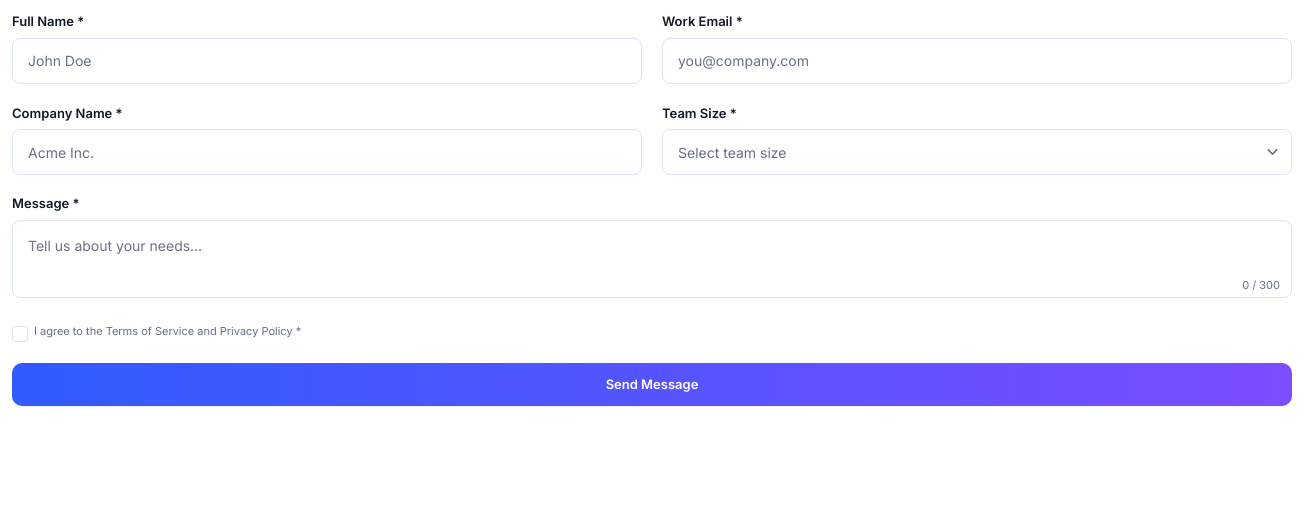
Test case: ContactForm › does not submit an invalid form and shows associated errors
Click the button "Send Message" at (652, 384), box [12,363,1292,406]
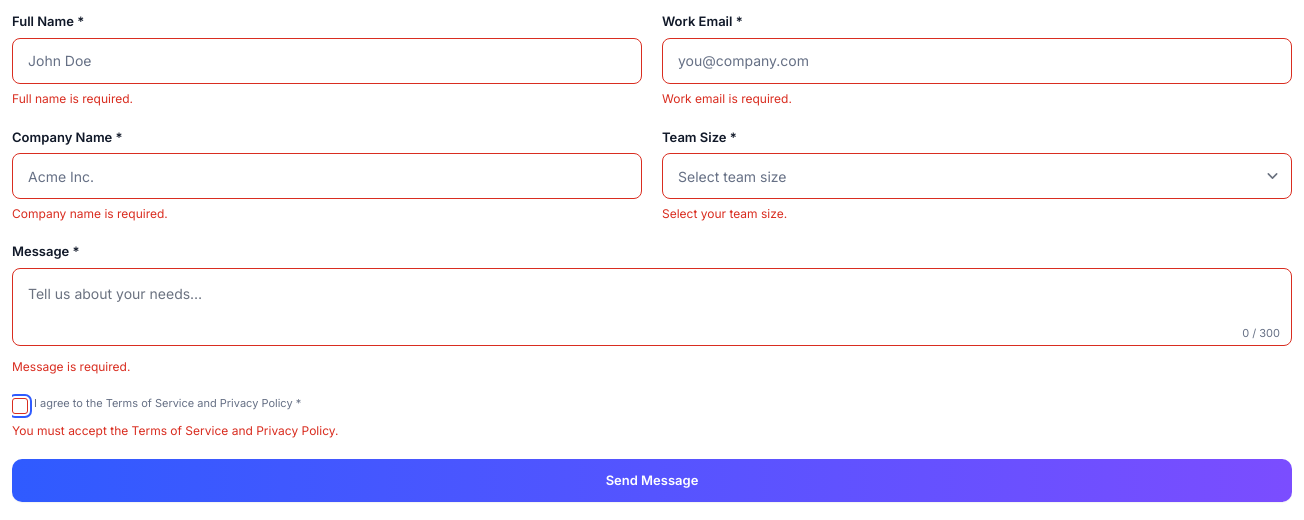
Now the text "Full name is required." is shown, box [12,90,133,106]
Now the text "Work email is required." is shown, box [662,90,792,106]
Now the text "Company name is required." is shown, box [12,206,168,221]
